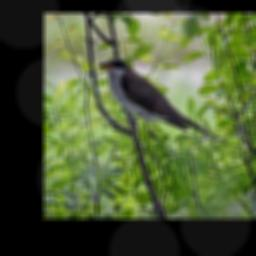Cuckoo: (95, 57, 228, 149)
